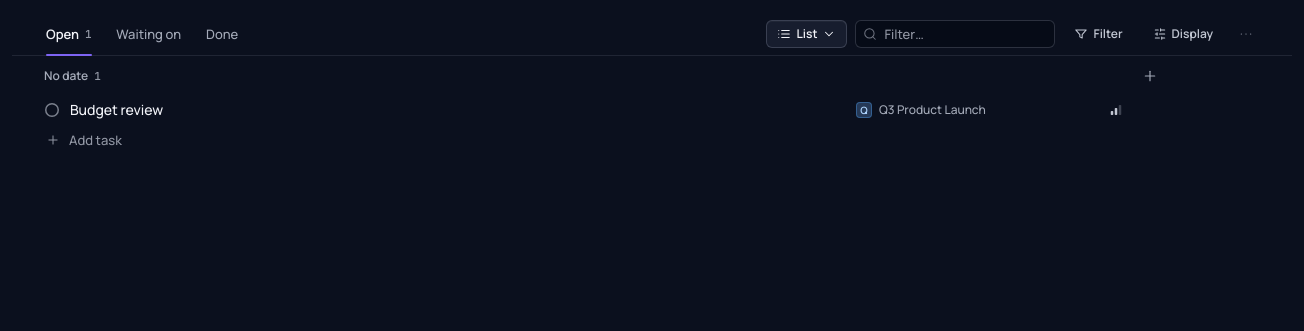
Test case: the one toolbar row › a title filter that hides everything says so, and Clear filters brings the tasks back
This screenshot has width=1304, height=331.
Type "zzz" into the field named "Filter tasks by title" at x=956, y=34, box [856, 20, 1056, 48]
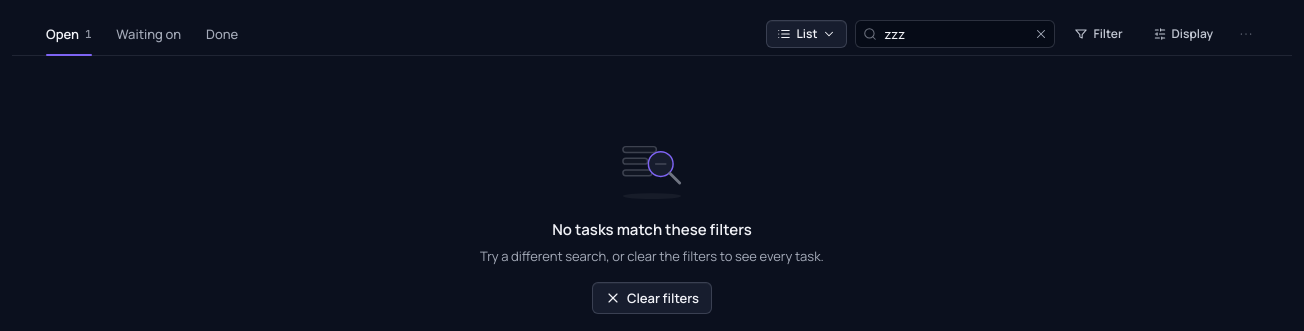
Result: the text "No tasks match these filters" is shown at [552, 218, 752, 242]
Click the button "Clear filters" at x=652, y=298, box [592, 282, 712, 314]
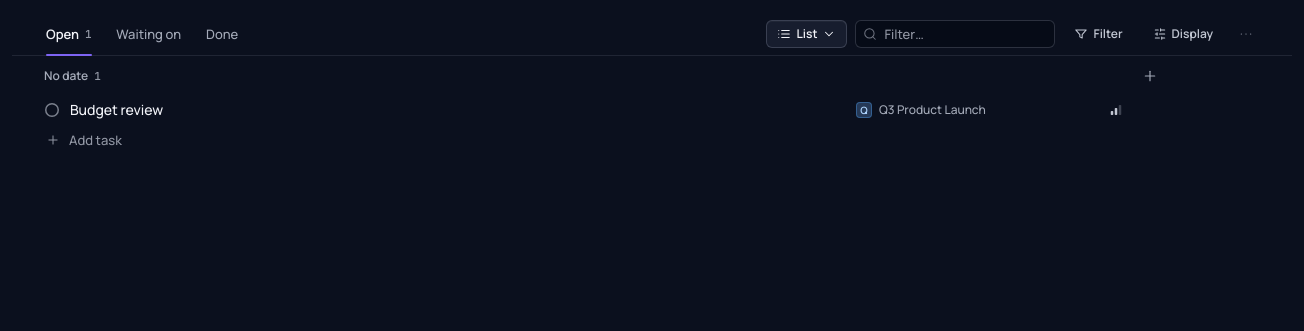
Result: the button "Budget review" is shown at [70, 100, 163, 120]
